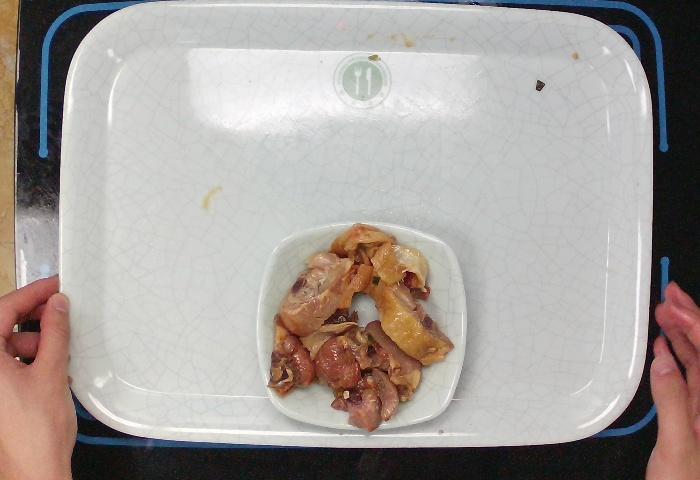WCQzf-Da_Si_Fang_Die: (256, 222, 469, 432)
